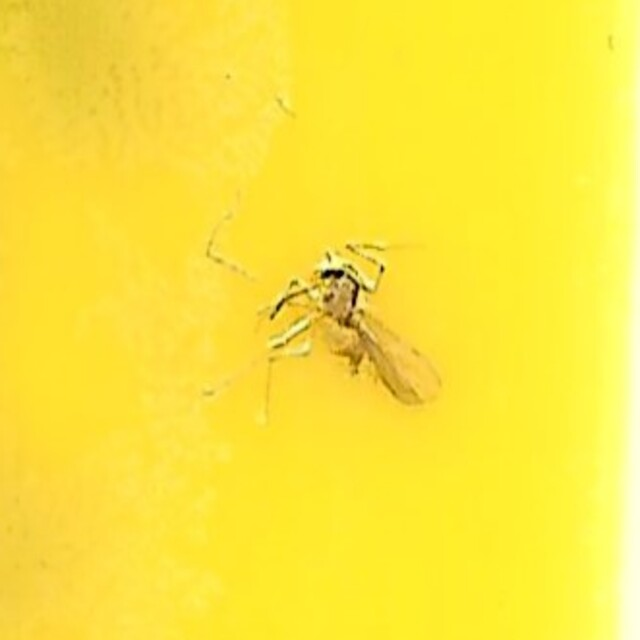Nematocera: (193, 216, 447, 424)
